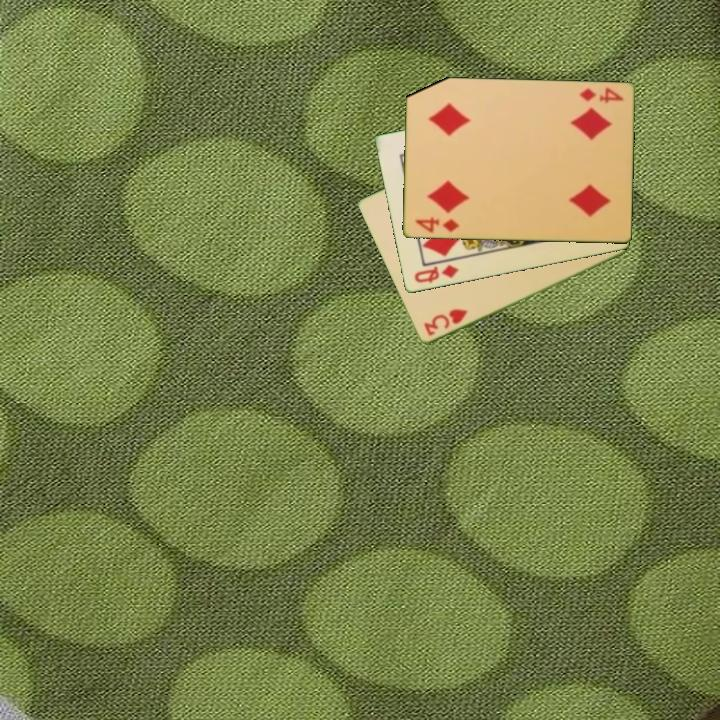3h: (420, 306, 471, 339)
4d: (412, 214, 462, 236), (576, 85, 626, 106)
Qd: (410, 261, 462, 287)
